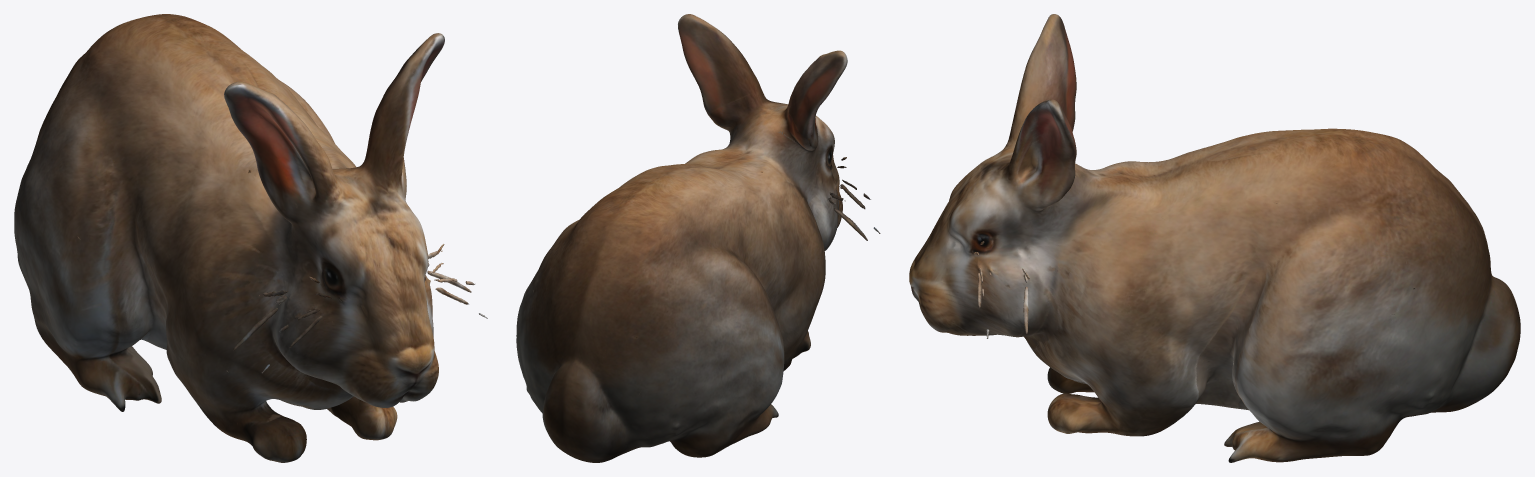
Rendered from hase_original.glb.
3 renders of one model, left to right at view 1: azimuth 30°, elevation 25°; view 2: azimuth 150°, elevation 25°; view 3: azimuth 270°, elevation 25°, orthographic. The views are drawn at different scales.
Bounding box in the file's own units: 0.9996 × 1.28 × 1.99.
Materials: 1 (1 with a texture image).
